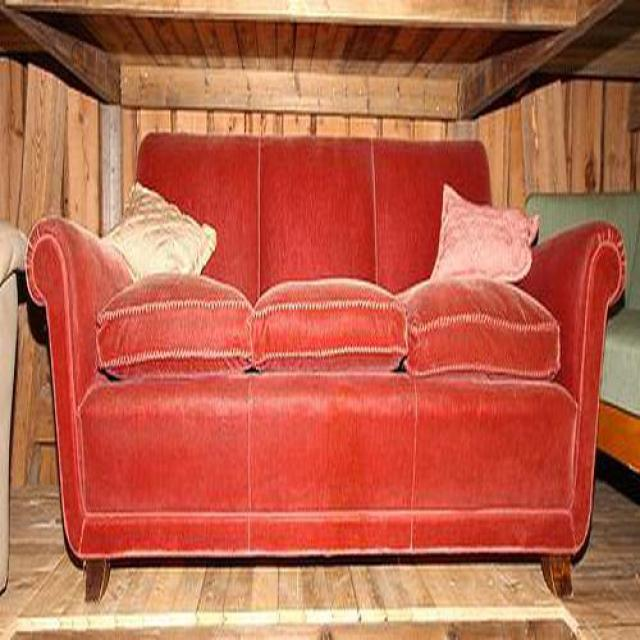sofa: (20, 133, 631, 602)
